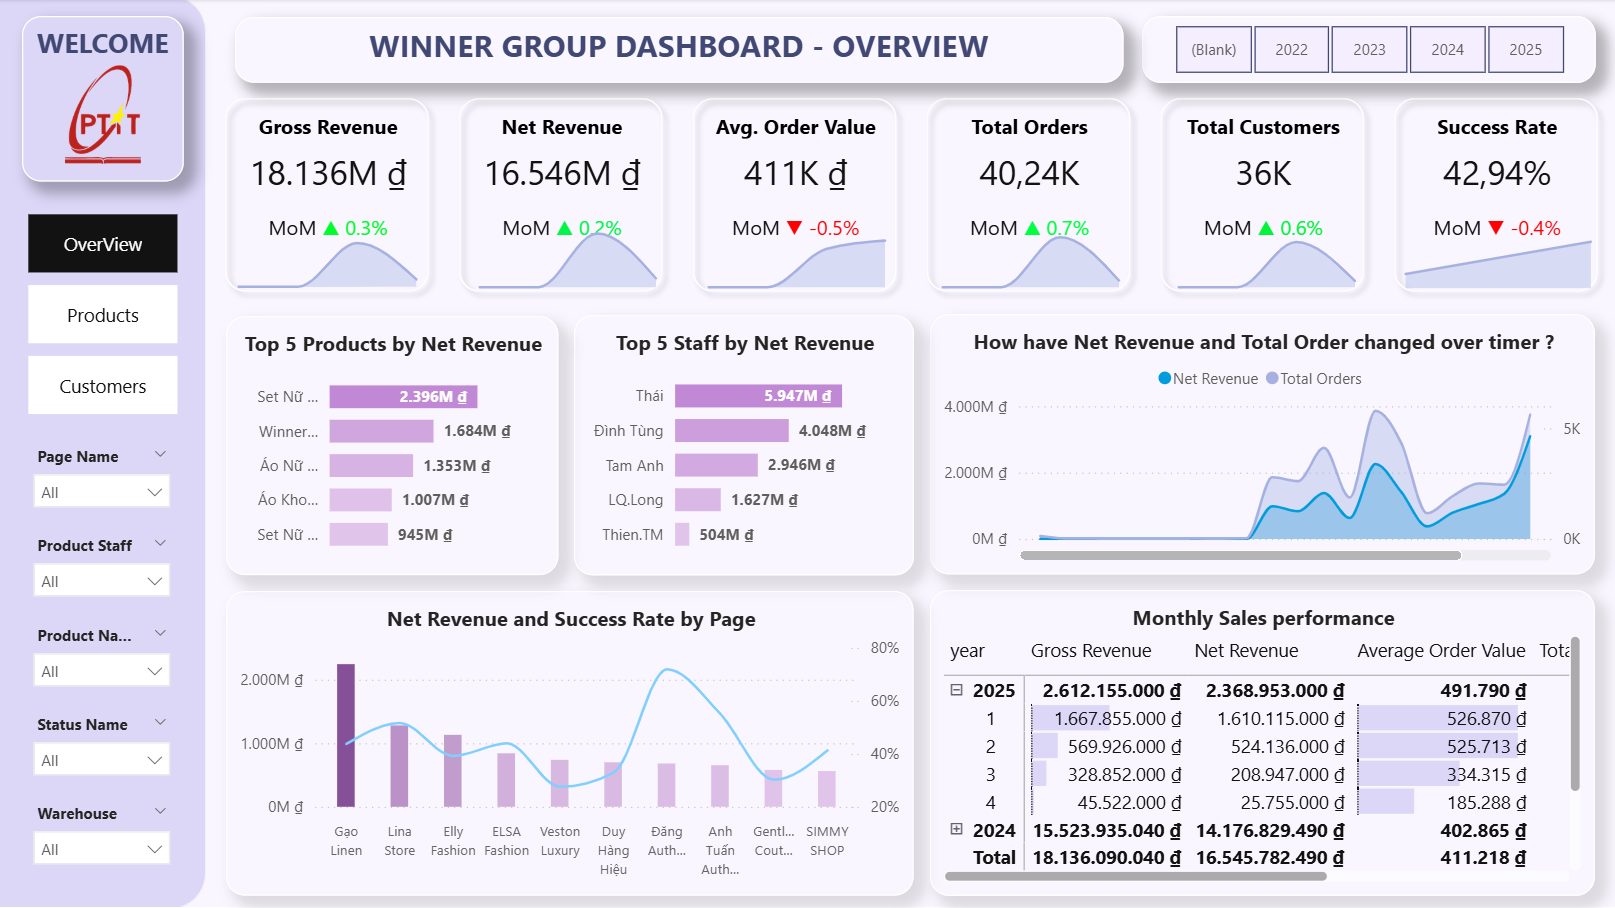

The dashboard page shown, as its layout file describes it:
{"tool":"powerbi","page":{"name":"OverView","canvas":[1280,720],"ordinal":0},"visuals":[{"type":"slicer","fields":{"Values":["winner_gold dim_date.year"]},"box":[903.5,13.7,358.7,52.6],"z":0},{"type":"slicer","fields":{"Values":["winner_gold dim_order_pages.page_name"]},"box":[16.7,348.5,127.9,70.4],"z":1000},{"type":"textbox","box":[17.2,13.6,128,130.7],"z":2000},{"type":"pageNavigator","box":[17.2,165.2,128,168.9],"z":3000},{"type":"slicer","fields":{"Values":["winner_gold dim_products.category_name"]},"box":[16.7,418.9,127.9,70.4],"z":4000},{"type":"slicer","fields":{"Values":["winner_gold dim_products.name"]},"box":[16.7,489.4,127.9,70.4],"z":5000},{"type":"slicer","fields":{"Values":["winner_gold fact_orders.status_name"]},"box":[16.7,559.8,127.9,70.4],"z":6000},{"type":"slicer","fields":{"Values":["winner_gold dim_order_warehouses.warehouse_name.2"]},"box":[16.7,630.3,127.9,70.4],"z":7000},{"type":"textbox","box":[186.1,14.3,702.7,51.5],"z":8000},{"type":"cardVisual","fields":{"Data":["Overview_Measures.Gross Revenue","Overview_Measures.Net Revenue","Overview_Measures.Average Order Value","Overview_Measures.Total Orders","Overview_Measures.Total Customers","Overview_Measures.Success Rate"]},"box":[166.2,66.1,1113.8,177.2],"z":9000},{"type":"image","box":[17.2,39.9,128,104.4],"z":10000},{"type":"areaChart","fields":{"Y":["Overview_Measures.Gross Revenue"],"Category":["winner_gold dim_date.year"]},"box":[178.8,174.1,160.6,54.6],"z":11000},{"type":"areaChart","fields":{"Category":["winner_gold dim_date.year"],"Y":["Overview_Measures.Net Revenue"]},"box":[369.5,173.7,159.5,55],"z":12000},{"type":"areaChart","fields":{"Category":["winner_gold dim_date.year"],"Y":["Overview_Measures.Average Order Value"]},"box":[550.9,173.7,159.5,55],"z":13000},{"type":"areaChart","fields":{"Category":["winner_gold dim_date.year"],"Y":["Overview_Measures.Total Orders"]},"box":[735.7,173.7,159.5,55],"z":14000},{"type":"areaChart","fields":{"Category":["winner_gold dim_date.year"],"Y":["Overview_Measures.Total Customers"]},"box":[922.6,173.7,159.5,55],"z":15000},{"type":"areaChart","fields":{"Category":["winner_gold dim_date.year"],"Y":["Overview_Measures.Success Rate"]},"box":[1102.2,173.8,166.5,54.7],"z":16000},{"type":"lineChart","title":"How have Net Revenue and Total Order changed over timer ?","fields":{"Y2":["Overview_Measures.Total Orders"],"Category":["winner_gold dim_date.year","winner_gold dim_date.month"],"Y":["Overview_Measures.Net Revenue"]},"box":[735.7,249.5,526.2,205.9],"z":17000},{"type":"barChart","title":"Top 5 Products by Net Revenue","fields":{"Category":["winner_gold dim_products.name"],"Y":["Overview_Measures.Net Revenue"]},"box":[179.1,250.5,262.9,204.7],"z":18000},{"type":"clusteredBarChart","title":"Top 5 Staff by Net Revenue","fields":{"Y":["Overview_Measures.Net Revenue"],"Category":["winner_gold dim_products.category_name"]},"box":[454.3,249.6,269.1,205.5],"z":19000},{"type":"lineClusteredColumnComboChart","title":"Net Revenue and Success Rate by Page","fields":{"Category":["winner_gold dim_order_pages.page_name"],"Y":["Overview_Measures.Net Revenue"],"Y2":["Overview_Measures.Success Rate"]},"box":[179,468.8,544.2,240.7],"z":20000},{"type":"pivotTable","title":"Monthly Sales performance","fields":{"Rows":["winner_gold dim_date.year","winner_gold dim_date.month"],"Values":["Overview_Measures.Gross Revenue","Overview_Measures.Net Revenue","Overview_Measures.Average Order Value","Overview_Measures.Total Orders","Overview_Measures.Total Customers","Overview_Measures.Success Rate"]},"box":[735.8,467.8,526,241.6],"z":21000}]}

Visuals, with their boxes in screenshot pixels (x1, y1, x2, y2), scaled from the page's 1280x720 canvas onto the 1615x908 screenshot:
slicer - winner_gold dim_date.year: BBox(1140, 17, 1593, 84)
slicer - winner_gold dim_order_pages.page_name: BBox(21, 439, 182, 528)
textbox: BBox(22, 17, 183, 182)
pageNavigator: BBox(22, 208, 183, 421)
slicer - winner_gold dim_products.category_name: BBox(21, 528, 182, 617)
slicer - winner_gold dim_products.name: BBox(21, 617, 182, 706)
slicer - winner_gold fact_orders.status_name: BBox(21, 706, 182, 795)
slicer - winner_gold dim_order_warehouses.warehouse_name.2: BBox(21, 795, 182, 884)
textbox: BBox(235, 18, 1121, 83)
cardVisual - Overview_Measures.Gross Revenue x Overview_Measures.Net Revenue: BBox(210, 83, 1614, 307)
image: BBox(22, 50, 183, 182)
areaChart - Overview_Measures.Gross Revenue x winner_gold dim_date.year: BBox(226, 220, 428, 288)
areaChart - winner_gold dim_date.year x Overview_Measures.Net Revenue: BBox(466, 219, 667, 288)
areaChart - winner_gold dim_date.year x Overview_Measures.Average Order Value: BBox(695, 219, 896, 288)
areaChart - winner_gold dim_date.year x Overview_Measures.Total Orders: BBox(928, 219, 1129, 288)
areaChart - winner_gold dim_date.year x Overview_Measures.Total Customers: BBox(1164, 219, 1365, 288)
areaChart - winner_gold dim_date.year x Overview_Measures.Success Rate: BBox(1391, 219, 1601, 288)
"How have Net Revenue and Total Order changed over timer ?" lineChart: BBox(928, 315, 1592, 574)
"Top 5 Products by Net Revenue" barChart: BBox(226, 316, 558, 574)
"Top 5 Staff by Net Revenue" clusteredBarChart: BBox(573, 315, 913, 574)
"Net Revenue and Success Rate by Page" lineClusteredColumnComboChart: BBox(226, 591, 912, 895)
"Monthly Sales performance" pivotTable: BBox(928, 590, 1592, 895)
